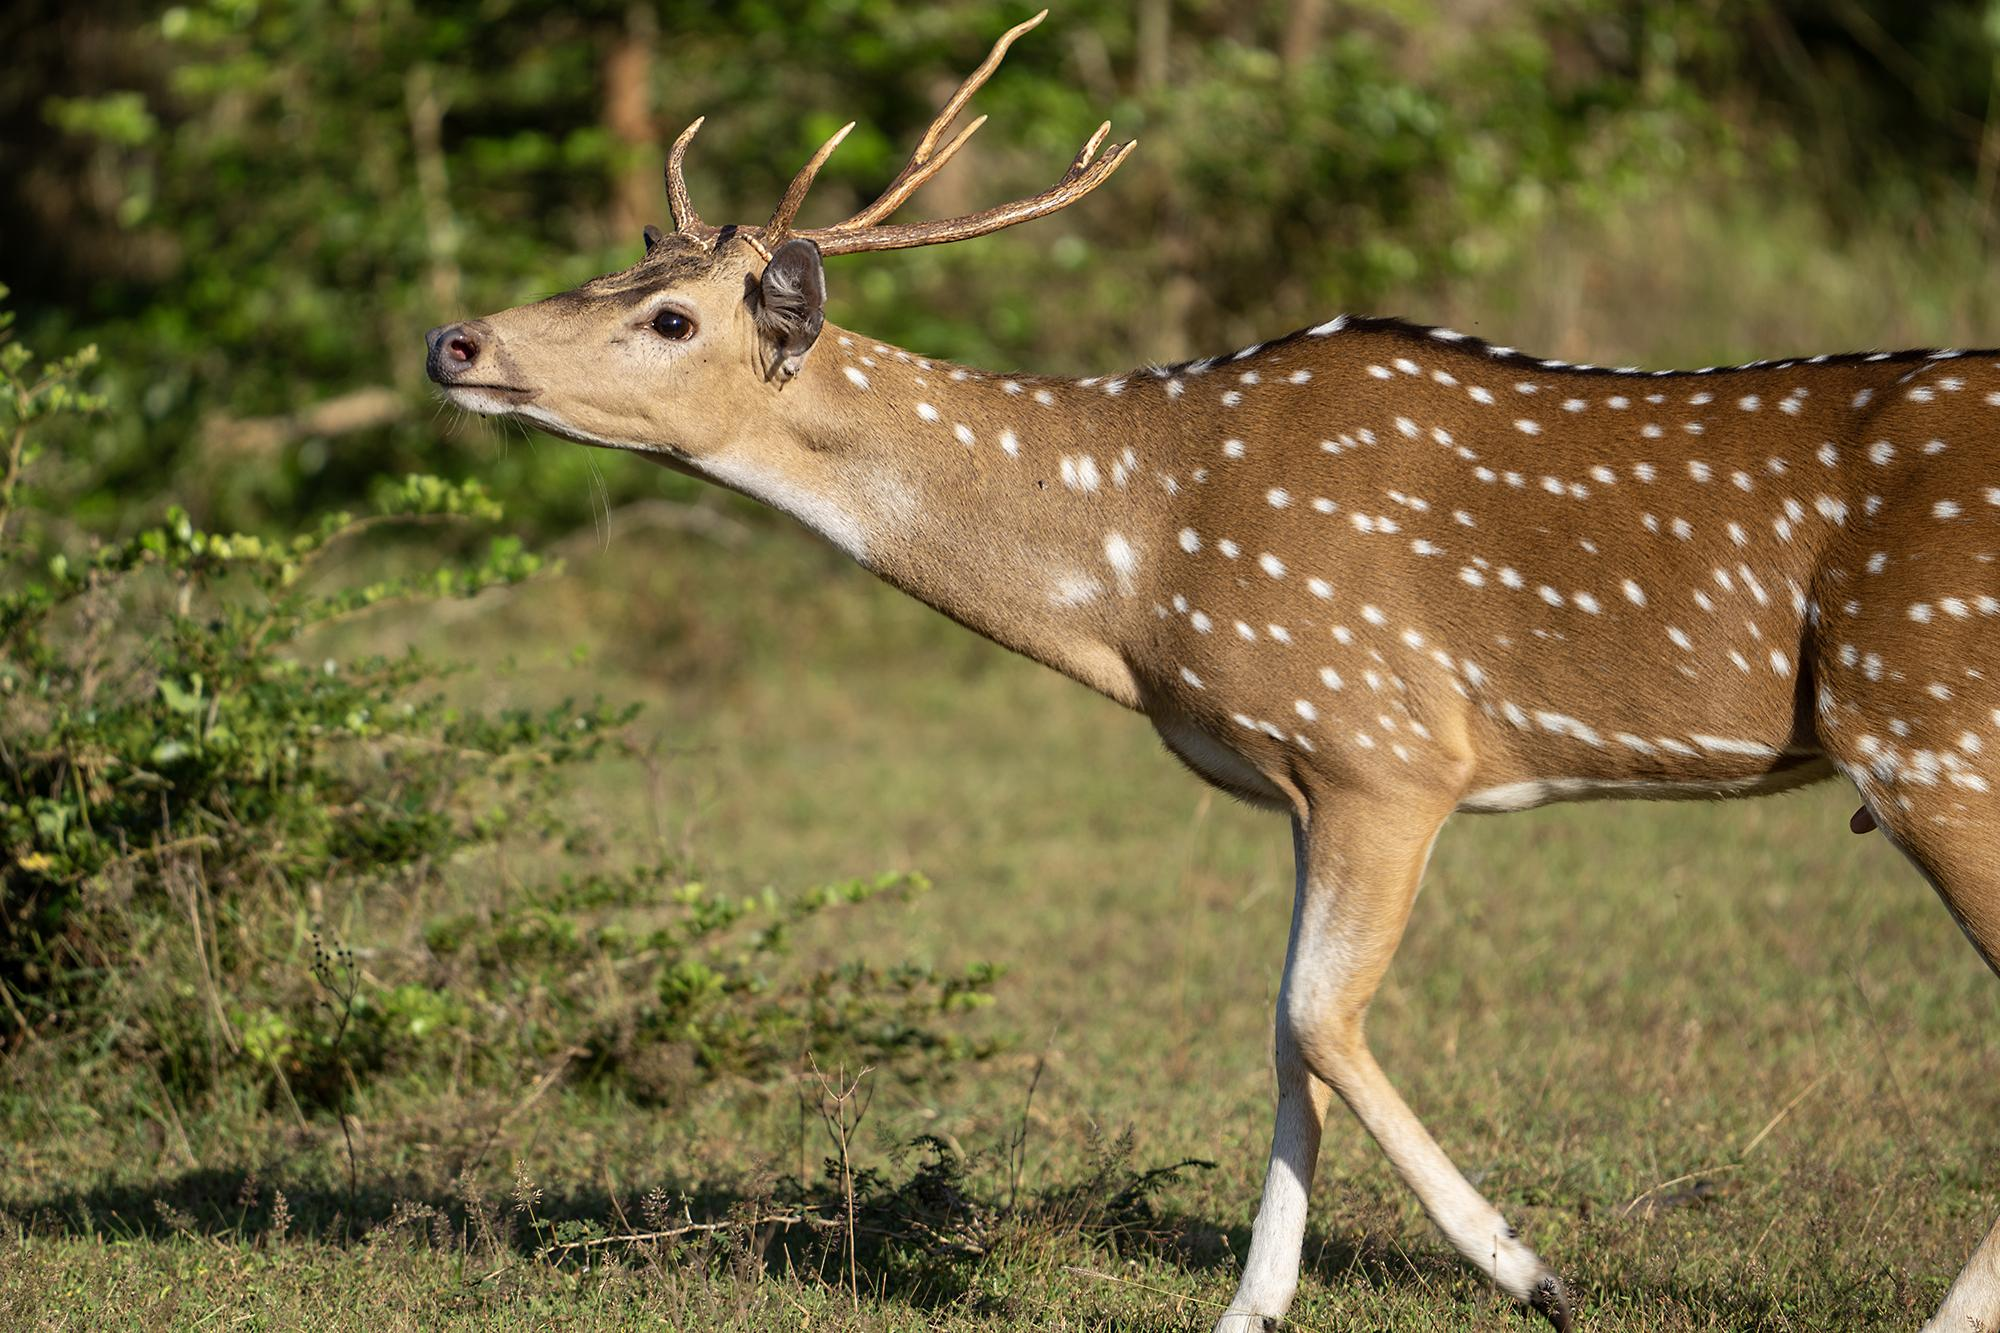Deer: (425, 208, 1999, 1332)
